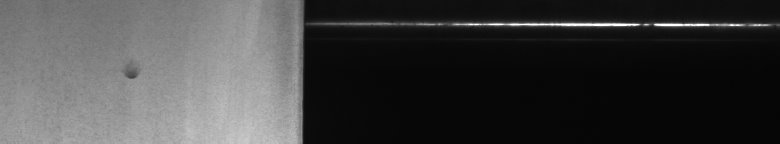fi: (120, 62, 143, 88)
